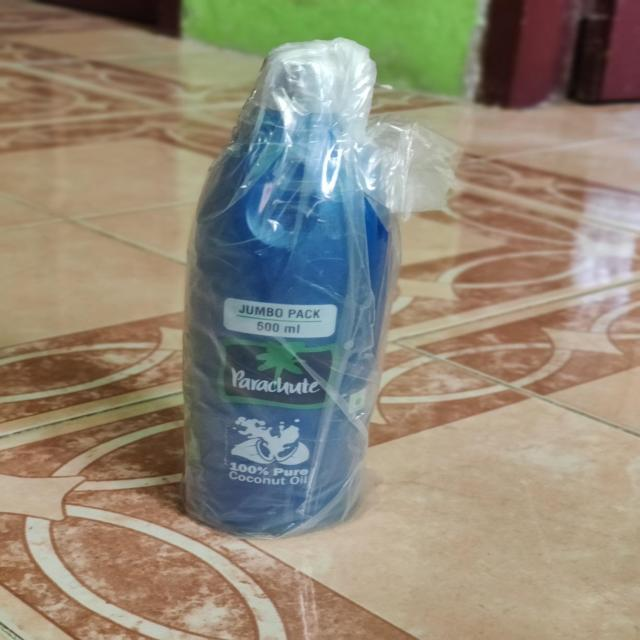parachute_oil: (171, 30, 396, 547)
